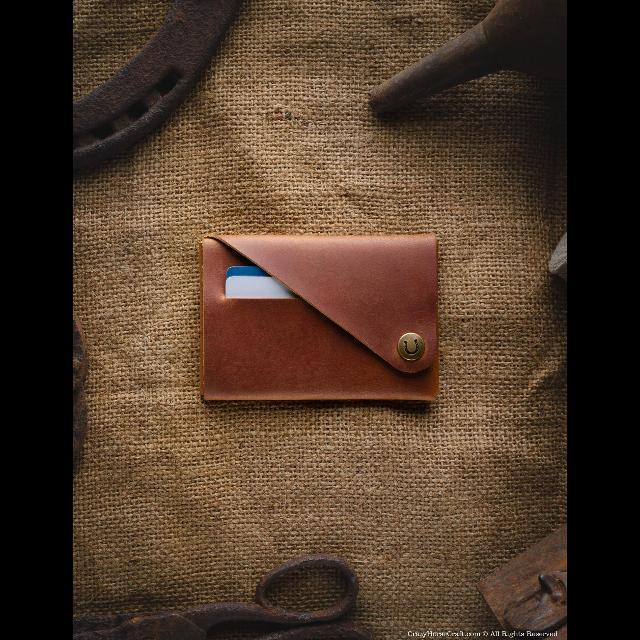wallet: (188, 226, 446, 412)
